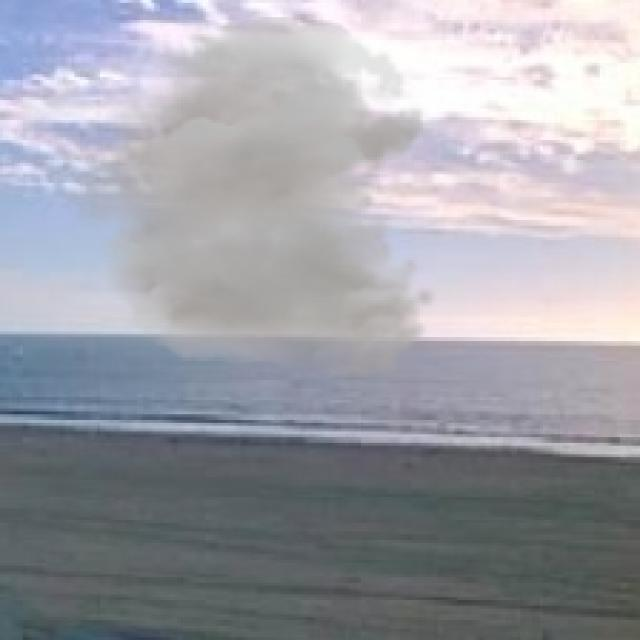Smoke: (52, 17, 437, 380)
